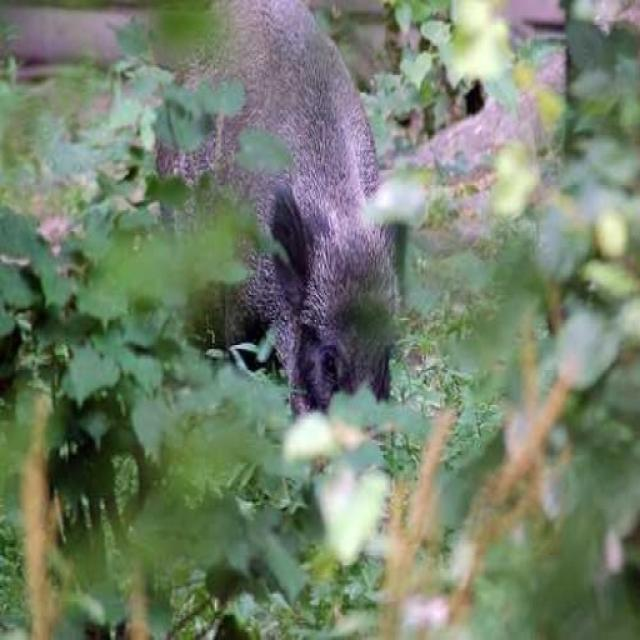pig: (88, 0, 445, 427)
